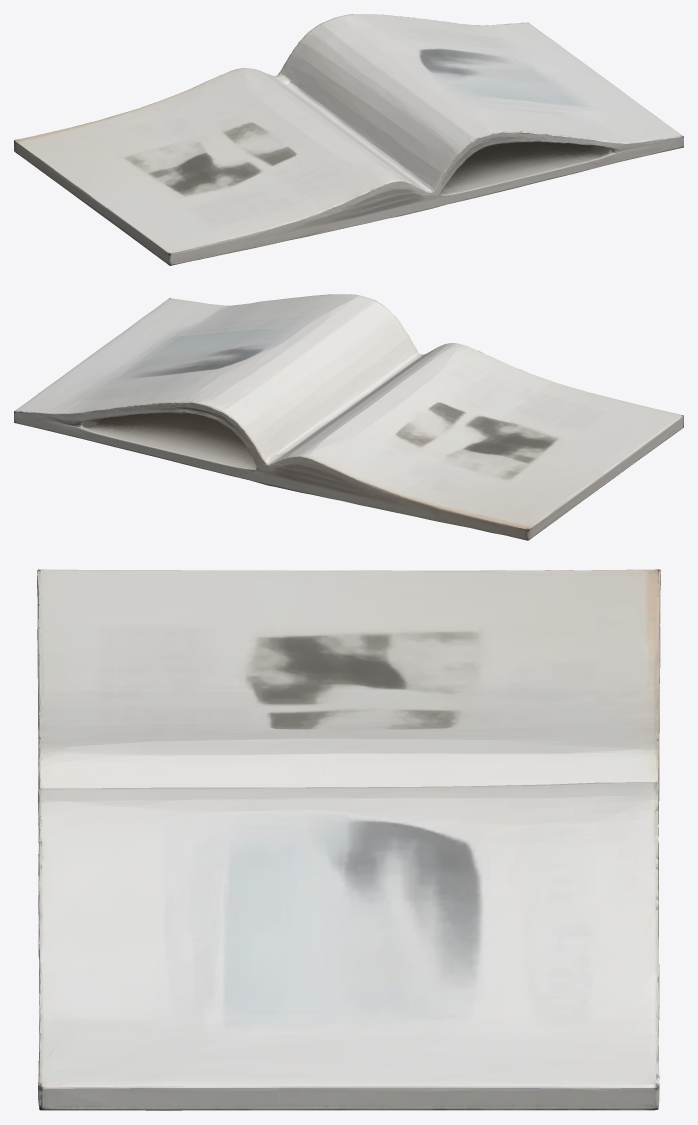
File: book1.glb
3 renders of one model, top to bottom at view 1: azimuth 30°, elevation 25°; view 2: azimuth 150°, elevation 25°; view 3: azimuth 270°, elevation 25°, orthographic. The views are drawn at different scales.
Parts seen in each view (by area): view 1: geometry_0; view 2: geometry_0; view 3: geometry_0.
Part boxes in pixels (x1,y1,x2,y2): geometry_0: [14, 14, 683, 265]; geometry_0: [14, 294, 683, 540]; geometry_0: [37, 569, 660, 1110].
Size of the model in its own units: 0.9999 by 0.1257 by 0.5246.
Materials: 1 (1 with a texture image).
